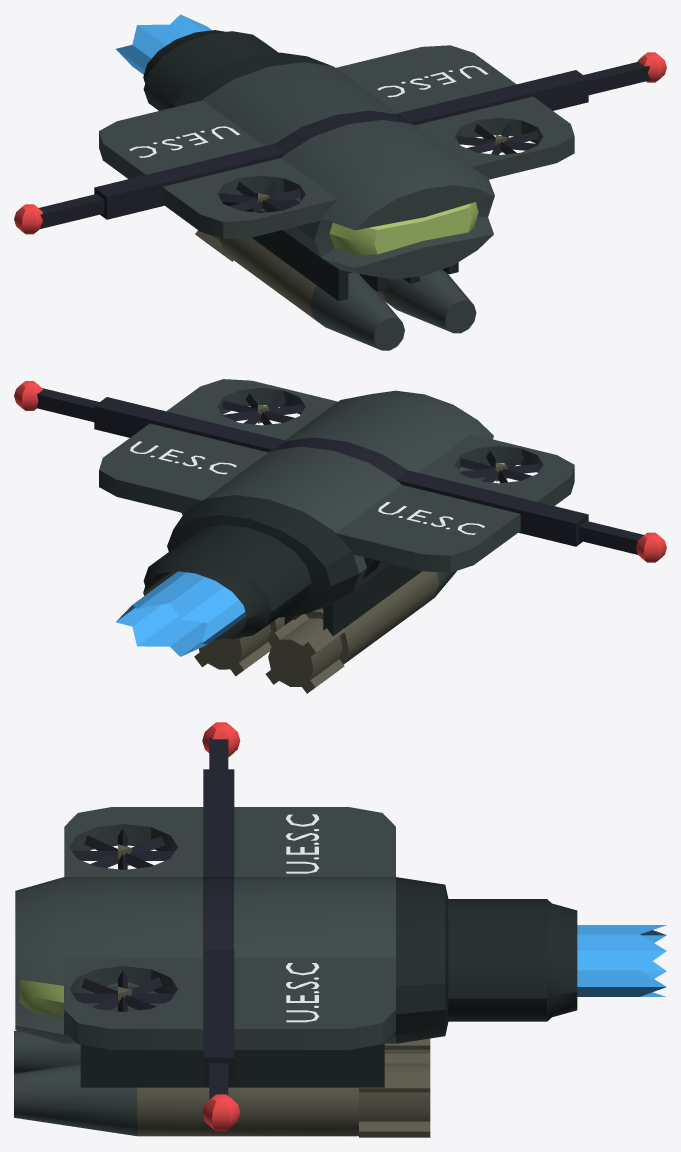
The model's file is PilotDrone.fbx.
3 renders of one model, top to bottom at view 1: azimuth 30°, elevation 25°; view 2: azimuth 150°, elevation 25°; view 3: azimuth 270°, elevation 25°, orthographic. The views are drawn at different scales.
Visible parts, largest first — view 1: Cylinder; view 2: Cylinder; view 3: Cylinder.
Boxes of the visible parts, left/top/right/bottom form: Cylinder: left=14, top=14, right=666, bottom=350; Cylinder: left=14, top=379, right=666, bottom=693; Cylinder: left=14, top=722, right=666, bottom=1137.
Bounding box in the file's own units: 761 × 198 × 544.
